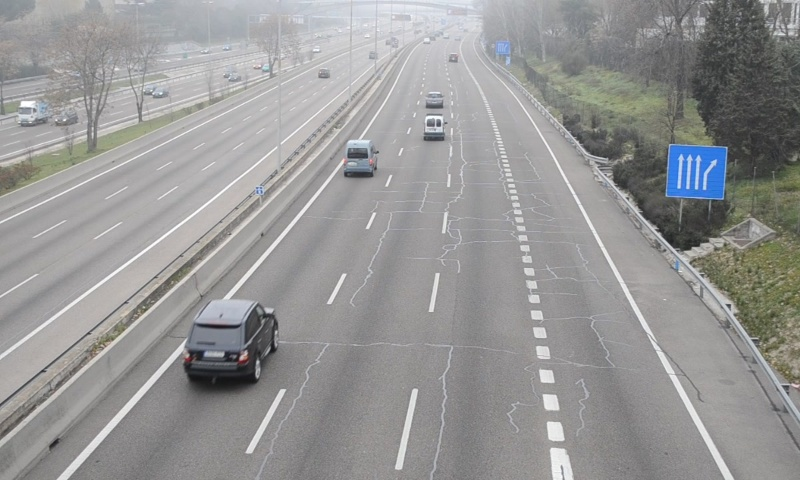car: (181, 300, 279, 376), (423, 90, 444, 108)
van: (342, 139, 375, 176), (422, 113, 445, 139)
